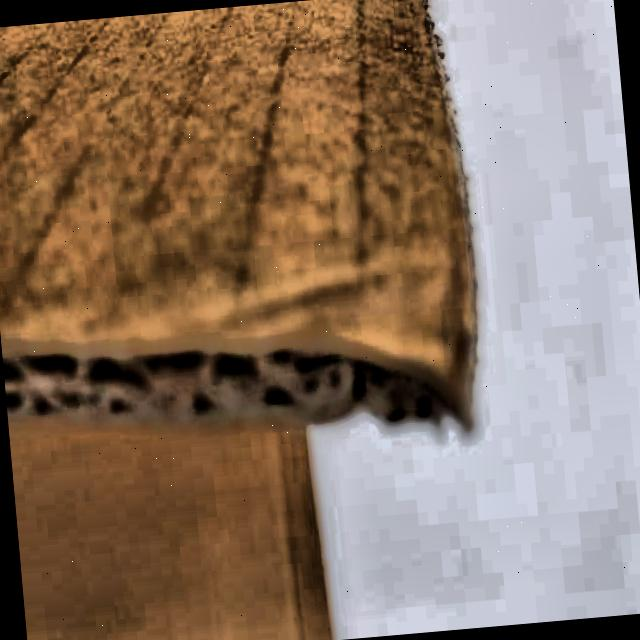cardboard: (0, 0, 500, 502)
